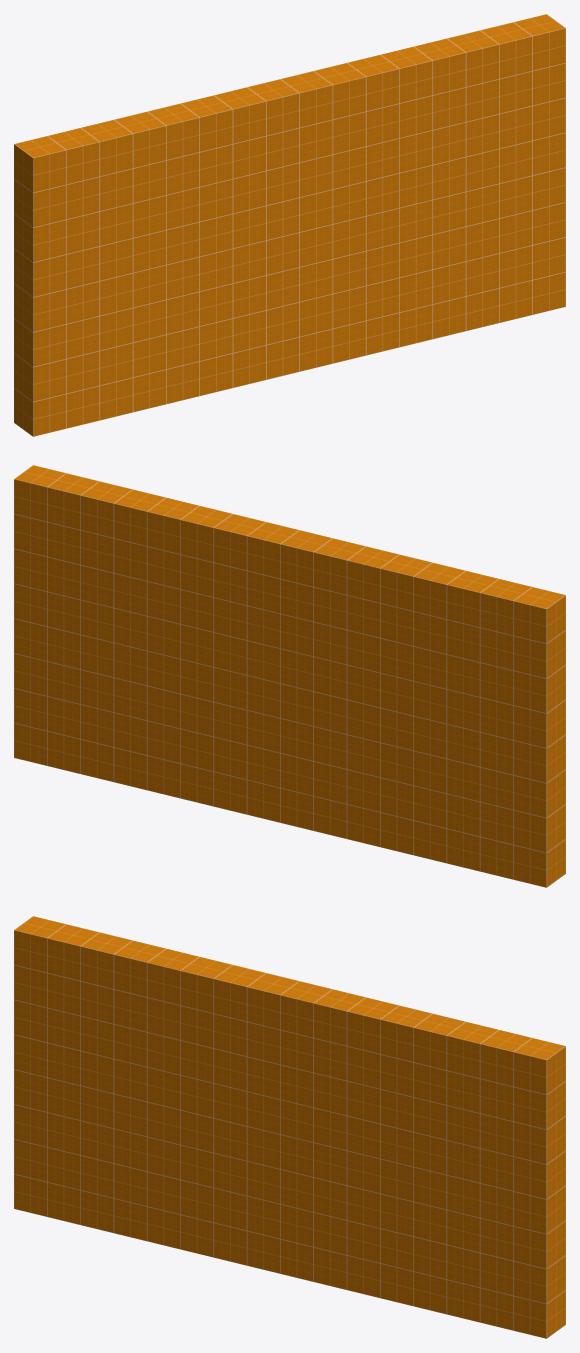
File: Block_16x1x8.obj
The picture shows the model from 3 angles, top to bottom: view 1: azimuth 30°, elevation 25°; view 2: azimuth 150°, elevation 25°; view 3: azimuth 330°, elevation 25°; orthographic projection.
Visible parts, largest first — view 1: Block_16x1x8_Cube.255; view 2: Block_16x1x8_Cube.255; view 3: Block_16x1x8_Cube.255.
Part boxes in pixels (x1,y1,x2,y2): Block_16x1x8_Cube.255: (14,14,565,436); Block_16x1x8_Cube.255: (14,465,565,887); Block_16x1x8_Cube.255: (14,916,565,1338).
Size of the model in its own units: 16 by 8 by 1.
1 material, 1 textured.
